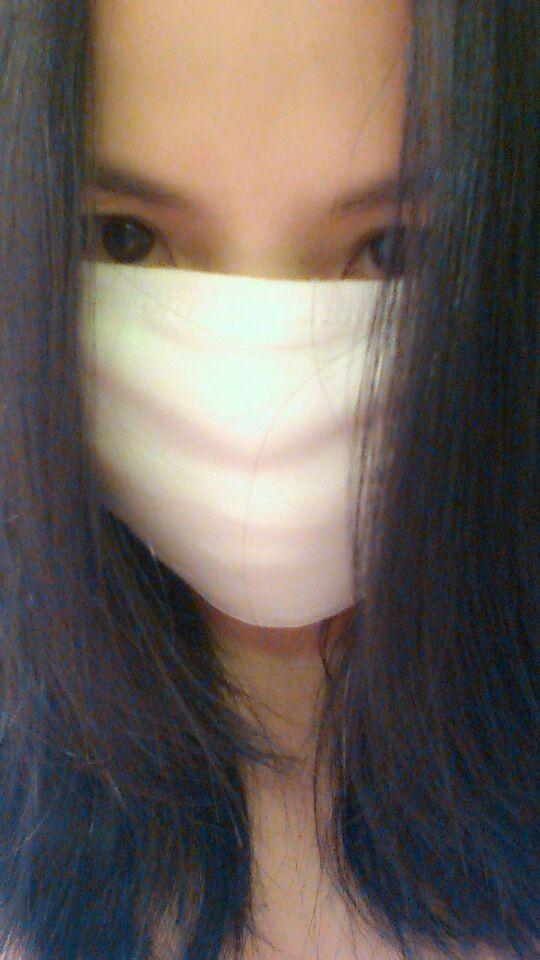OK: (41, 148, 520, 627)
